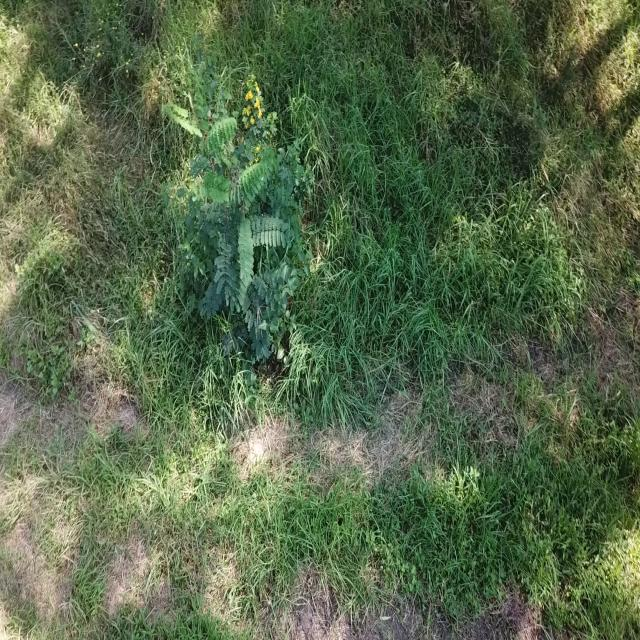Mysore-Thorn-Weed: (162, 29, 314, 368)
